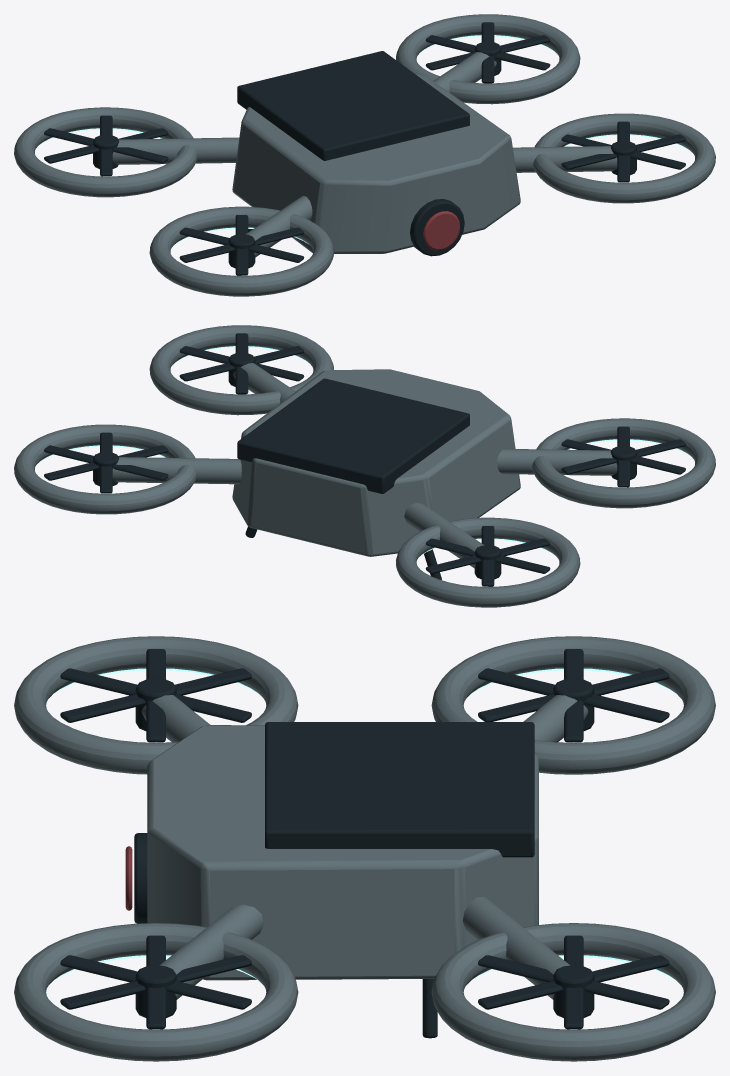
Rendered from service_drone.glb.
The picture shows the model from 3 angles, top to bottom: view 1: azimuth 30°, elevation 25°; view 2: azimuth 150°, elevation 25°; view 3: azimuth 270°, elevation 25°; orthographic projection. The views are drawn at different scales.
Visible parts, largest first — view 1: Detail.service_drone.Metal, Detail.service_drone.Dark, Detail.service_drone.Red, Detail.service_drone.Cyan; view 2: Detail.service_drone.Metal, Detail.service_drone.Dark, Detail.service_drone.Cyan; view 3: Detail.service_drone.Metal, Detail.service_drone.Dark, Detail.service_drone.Cyan.
Boxes of the visible parts, x1,y1,x2,y2 form: Detail.service_drone.Metal: [14, 14, 715, 296]; Detail.service_drone.Dark: [44, 22, 685, 275]; Detail.service_drone.Red: [423, 211, 459, 250]; Detail.service_drone.Cyan: [41, 35, 689, 296]; Detail.service_drone.Metal: [14, 325, 715, 607]; Detail.service_drone.Dark: [44, 333, 685, 586]; Detail.service_drone.Cyan: [40, 346, 688, 607]; Detail.service_drone.Metal: [14, 636, 715, 1061]; Detail.service_drone.Dark: [60, 649, 669, 1038]; Detail.service_drone.Cyan: [52, 668, 677, 1061].
Size of the model in its own units: 2.21 by 0.4887 by 1.61.
